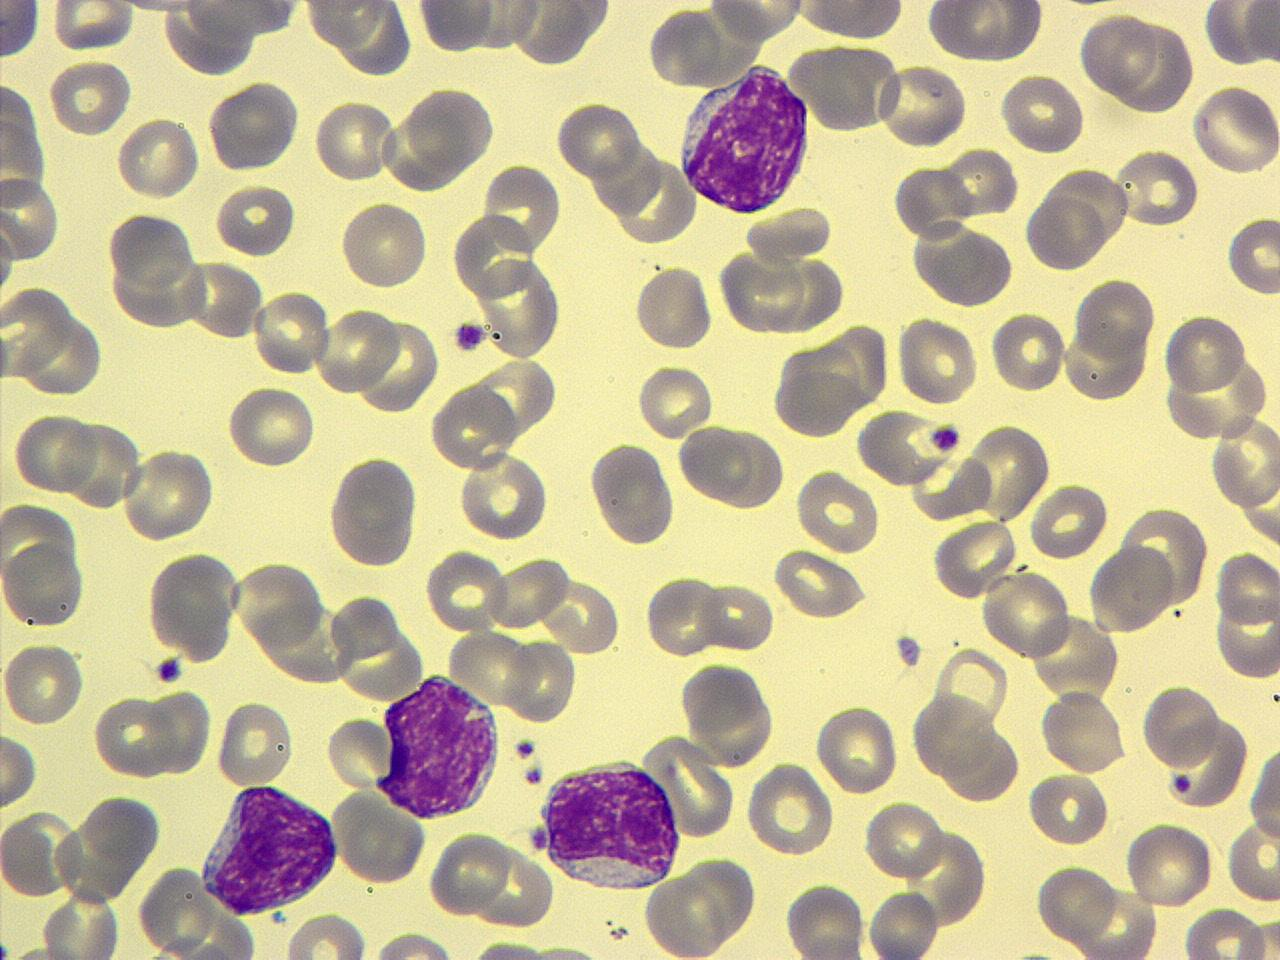Platelets: (451, 317, 488, 356), (154, 654, 186, 686), (0, 938, 10, 960)
RBC: (325, 451, 422, 570), (145, 548, 241, 662), (678, 659, 778, 768), (645, 730, 737, 840), (910, 215, 1016, 308), (589, 440, 678, 548), (120, 444, 217, 544), (678, 424, 786, 512), (333, 789, 429, 887), (207, 77, 301, 176), (454, 448, 552, 543), (963, 421, 1053, 521), (338, 197, 430, 294), (475, 258, 563, 360), (979, 566, 1073, 661), (744, 760, 836, 857), (405, 81, 496, 178), (1122, 818, 1215, 912), (233, 557, 325, 652), (854, 404, 959, 487), (1189, 82, 1279, 178), (1031, 609, 1121, 705), (480, 158, 564, 259), (1086, 541, 1176, 635), (673, 852, 759, 951), (314, 303, 402, 398), (428, 380, 518, 473), (225, 382, 317, 471), (814, 702, 902, 796), (893, 312, 980, 406), (1, 533, 86, 629), (1061, 315, 1151, 404), (875, 63, 969, 148), (451, 210, 534, 304), (792, 466, 881, 554), (1, 636, 86, 728), (910, 688, 994, 781), (1039, 689, 1127, 776), (1072, 274, 1158, 364), (998, 71, 1087, 156), (92, 690, 175, 782), (632, 261, 716, 353), (65, 416, 144, 512), (115, 115, 201, 204), (215, 696, 295, 790), (0, 282, 76, 382), (642, 872, 730, 958), (13, 409, 97, 499), (929, 516, 1019, 600), (426, 828, 510, 918), (1141, 679, 1221, 772), (1162, 311, 1248, 397), (424, 546, 508, 634), (1208, 410, 1280, 513), (312, 97, 397, 184), (555, 98, 643, 182), (137, 861, 214, 957), (48, 55, 135, 139), (924, 0, 1042, 62), (1033, 860, 1117, 946), (446, 626, 534, 708), (251, 288, 332, 377), (772, 548, 870, 620), (1116, 146, 1200, 230), (862, 796, 944, 881), (213, 179, 300, 260), (1078, 10, 1158, 99), (644, 571, 723, 659), (538, 572, 620, 656), (1027, 480, 1111, 562), (782, 878, 866, 960), (990, 308, 1066, 395), (1024, 191, 1106, 272), (636, 358, 716, 442), (186, 257, 265, 342), (1024, 770, 1110, 848), (508, 636, 577, 724), (1214, 589, 1280, 681), (146, 686, 211, 778), (943, 144, 1020, 221), (892, 162, 968, 240), (700, 578, 776, 655), (324, 712, 396, 793), (40, 887, 122, 959), (865, 886, 942, 960), (1214, 546, 1280, 630), (0, 175, 62, 263), (1179, 904, 1271, 958), (1224, 213, 1280, 298), (48, 0, 138, 53), (1226, 816, 1280, 904), (793, 0, 908, 41), (300, 0, 395, 49), (414, 0, 497, 55), (703, 0, 806, 43), (282, 909, 369, 959), (1246, 733, 1280, 849), (0, 727, 40, 812), (366, 928, 459, 960), (0, 1, 42, 61), (1243, 1, 1279, 67)
WBC: (674, 59, 816, 216), (536, 752, 686, 894), (369, 669, 505, 819), (195, 779, 343, 917)
